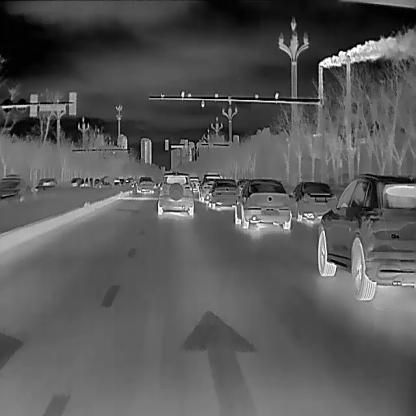car: (316, 172, 416, 300), (233, 177, 296, 229), (289, 180, 338, 223), (155, 171, 194, 215), (205, 176, 240, 209), (0, 173, 32, 204), (197, 172, 223, 203), (134, 173, 155, 193), (35, 177, 57, 193), (69, 175, 84, 187)
